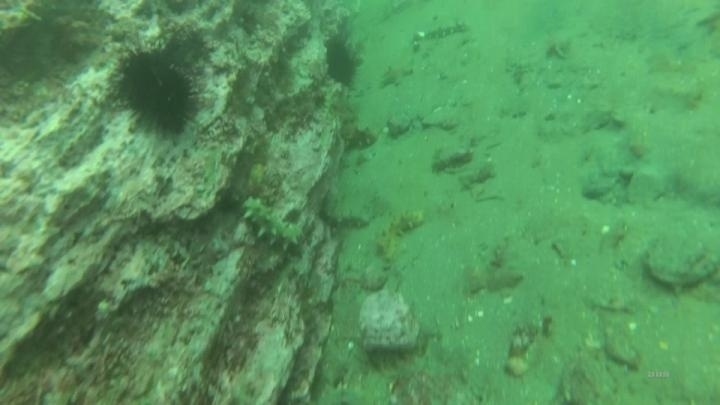echinus: (109, 43, 203, 138), (321, 34, 364, 89)
holothurian: (237, 193, 306, 253), (326, 88, 380, 154), (373, 207, 427, 263), (414, 17, 471, 44), (320, 205, 370, 229)
starfish: (375, 60, 413, 91)
